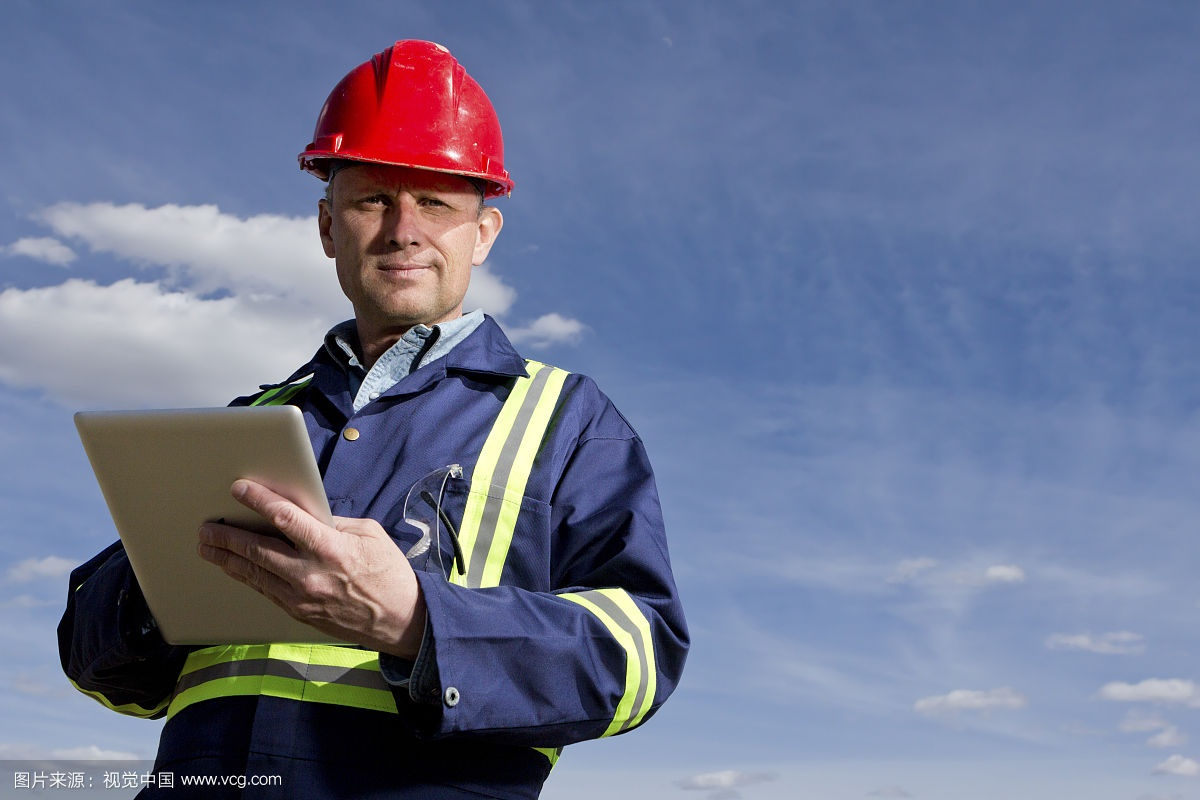red: (296, 37, 507, 326)
